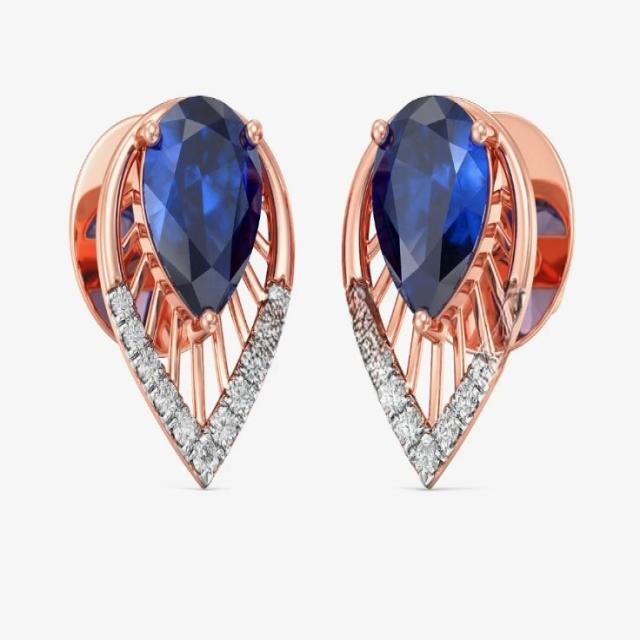missing gem: (505, 290, 524, 328), (363, 326, 384, 357), (347, 282, 367, 312), (489, 328, 507, 361), (356, 302, 374, 334)
